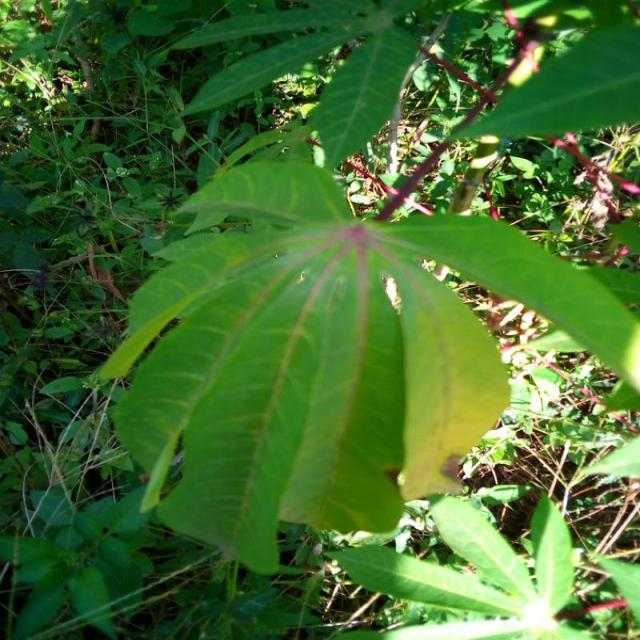cassava leaf: (95, 156, 638, 574)
